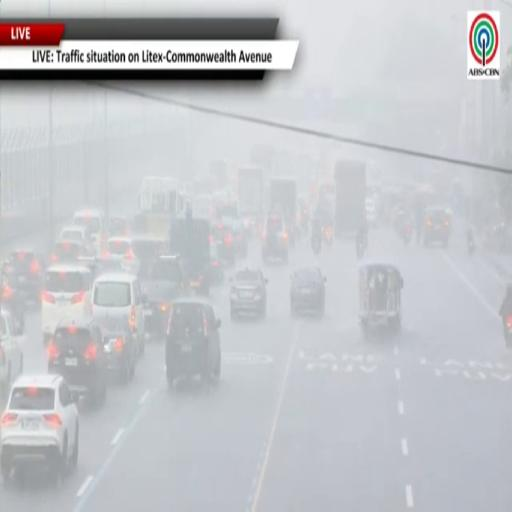car: (0, 375, 79, 481), (48, 317, 107, 406), (166, 297, 221, 388), (91, 272, 145, 355), (42, 264, 92, 344), (141, 255, 188, 337), (96, 316, 138, 383), (3, 250, 45, 303), (0, 310, 23, 395), (230, 268, 267, 318), (291, 267, 326, 316), (0, 272, 26, 334), (73, 208, 107, 255), (131, 234, 167, 274), (104, 237, 139, 274), (262, 214, 288, 263), (423, 207, 452, 246), (221, 218, 247, 258), (213, 221, 237, 264), (51, 240, 94, 263), (59, 224, 92, 248), (210, 240, 224, 285), (108, 216, 130, 236)
motorcycle: (503, 314, 512, 348), (311, 236, 322, 255), (403, 224, 412, 245), (324, 226, 332, 246), (468, 233, 475, 255), (357, 242, 364, 260)
truck: (170, 208, 211, 295), (334, 159, 366, 237), (269, 178, 297, 243), (237, 166, 263, 220), (210, 159, 227, 187)
